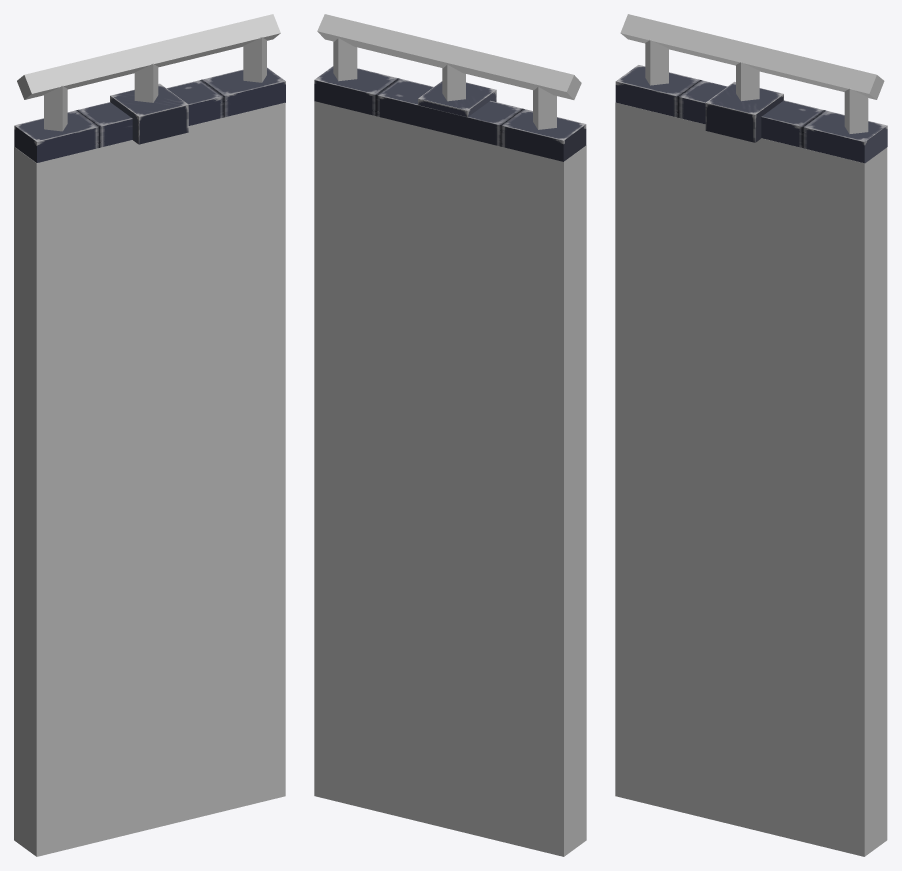
Rendered from edge_side.FBX.
3 renders of one model, left to right at view 1: azimuth 30°, elevation 25°; view 2: azimuth 150°, elevation 25°; view 3: azimuth 330°, elevation 25°, orthographic.
Parts seen in each view (by area): view 1: side_2edgy5me_overloop001, outer_corner_rand003, outer_corner003; view 2: outer_corner003, side_2edgy5me_overloop001, outer_corner_rand003; view 3: side_2edgy5me_overloop001, outer_corner003, outer_corner_rand003.
Boxes of the visible parts, box(x1,y1,x2,y2) form: side_2edgy5me_overloop001: box(14, 102, 285, 856); outer_corner_rand003: box(14, 67, 285, 162); outer_corner003: box(16, 14, 280, 162); outer_corner003: box(314, 14, 583, 856); side_2edgy5me_overloop001: box(564, 145, 586, 856); outer_corner_rand003: box(314, 66, 586, 161); side_2edgy5me_overloop001: box(615, 102, 864, 856); outer_corner003: box(620, 14, 887, 856); outer_corner_rand003: box(615, 65, 887, 163).
Bounding box in the file's own units: 50.13 × 149 × 10.03.
